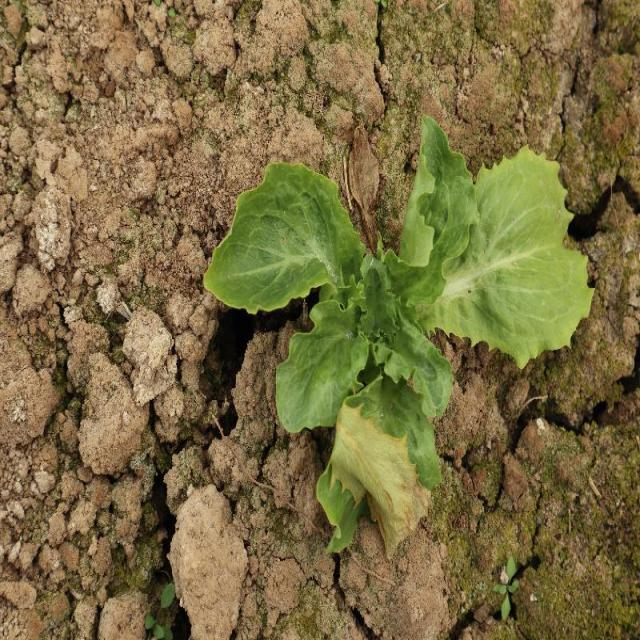crop: (203, 116, 594, 556)
